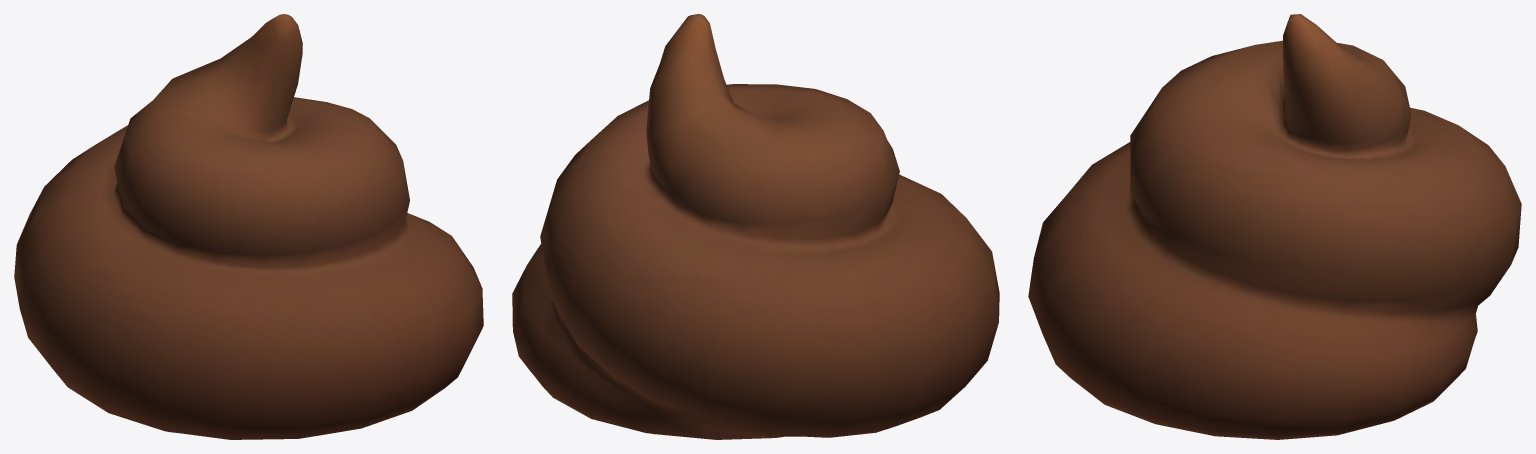
File: poo.glb
The picture shows the model from 3 angles, left to right: view 1: azimuth 30°, elevation 25°; view 2: azimuth 150°, elevation 25°; view 3: azimuth 270°, elevation 25°; orthographic projection. The views are drawn at different scales.
Size of the model in its own units: 1 by 0.7803 by 0.984.
1 material, 1 textured.
